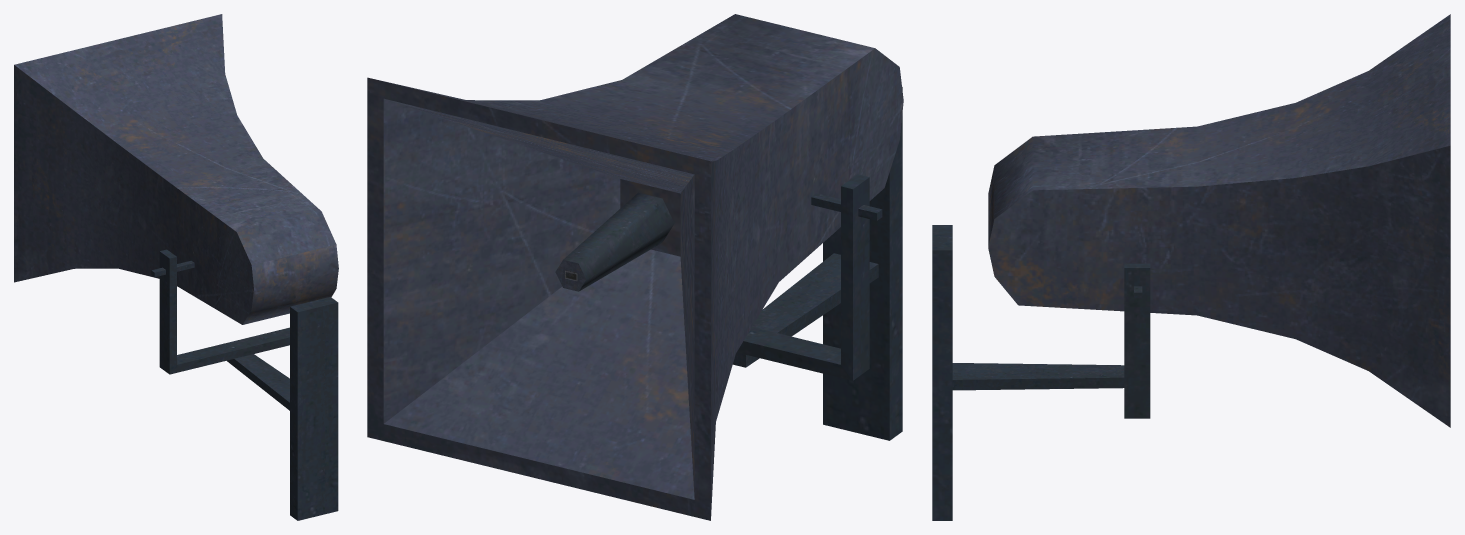
The model's file is Prop_Lb01.glb.
The picture shows the model from 3 angles, left to right: view 1: azimuth 30°, elevation 25°; view 2: azimuth 150°, elevation 25°; view 3: azimuth 270°, elevation 25°; orthographic projection. The views are drawn at different scales.
Parts seen in each view (by area): view 1: xiutz_lb01; view 2: xiutz_lb01; view 3: xiutz_lb01.
Boxes of the visible parts, x1,y1,x2,y2 form: xiutz_lb01: [14, 14, 338, 520]; xiutz_lb01: [367, 14, 903, 520]; xiutz_lb01: [932, 14, 1450, 520].
Size of the model in its own units: 0.7693 by 1.17 by 1.28.
1 material, 1 textured.
